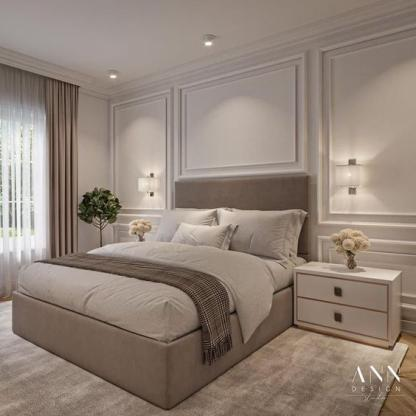Bed: (11, 172, 311, 411)
Curtains: (0, 63, 79, 298)
Futec frame: (114, 29, 416, 242)
Nightstand: (293, 265, 402, 350)
